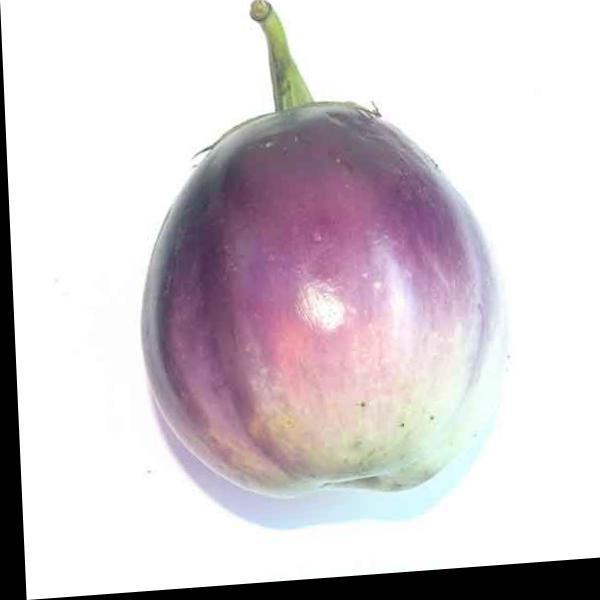eggplant: (126, 13, 496, 530)
